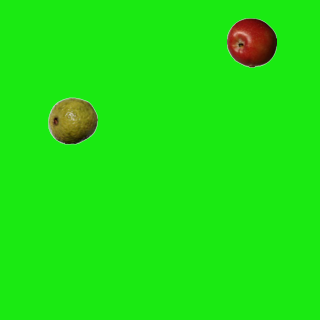Apple Braeburn: (226, 17, 276, 67)
Guava: (47, 95, 97, 145)
